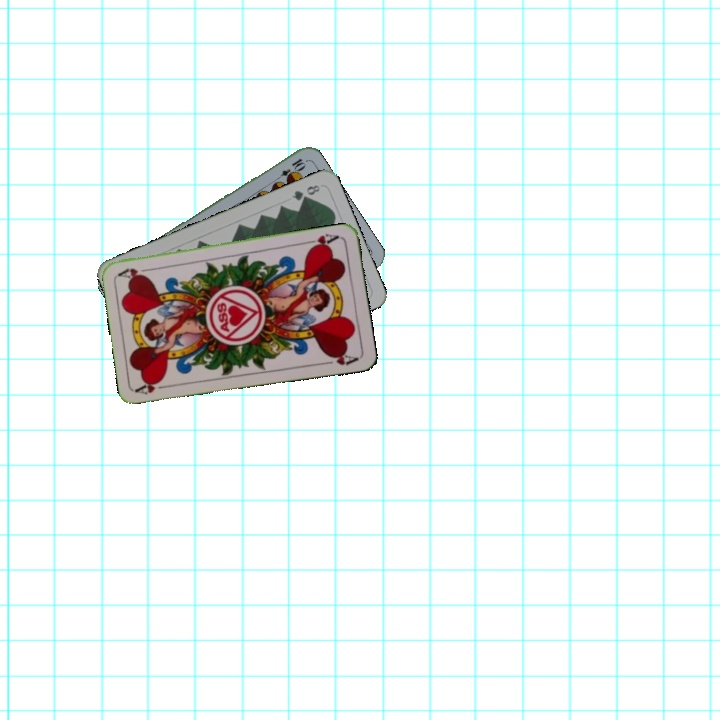E10: (271, 154, 308, 185)
G8: (288, 181, 323, 203)
HA: (133, 375, 174, 397), (302, 229, 341, 252)
